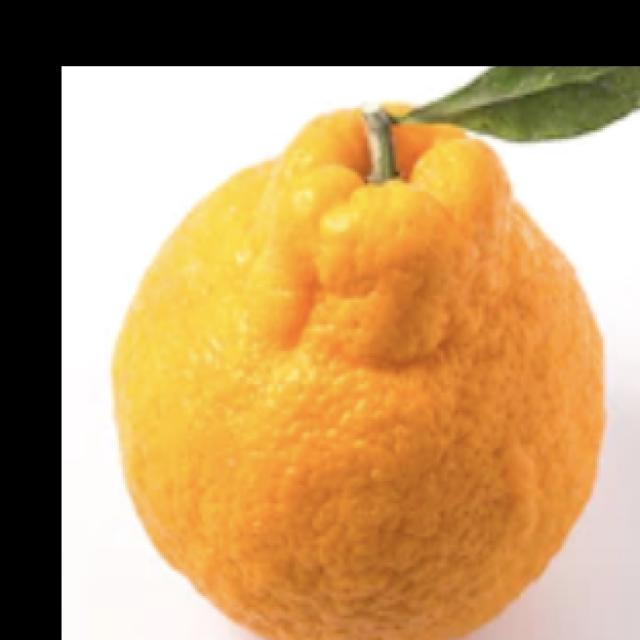orange: (112, 94, 608, 632)
